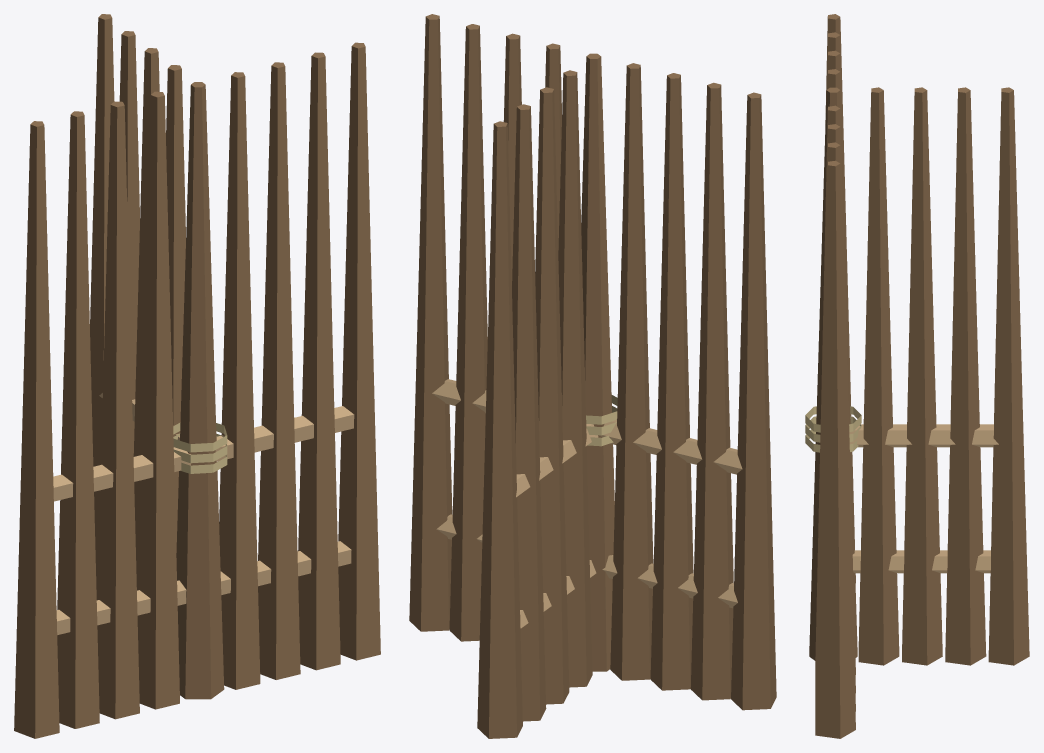
The model's file is palisade_0b.glb.
3 renders of one model, left to right at view 1: azimuth 30°, elevation 25°; view 2: azimuth 150°, elevation 25°; view 3: azimuth 270°, elevation 25°, orthographic. The views are drawn at different scales.
Parts seen in each view (by area): view 1: palisade_0b; view 2: palisade_0b; view 3: palisade_0b.
Boxes of the visible parts, box(x1,y1,x2,y2) form: palisade_0b: box(14, 14, 380, 738); palisade_0b: box(409, 14, 776, 738); palisade_0b: box(805, 14, 1029, 738).
Size of the model in its own units: 1.12 by 1.8 by 0.646.
